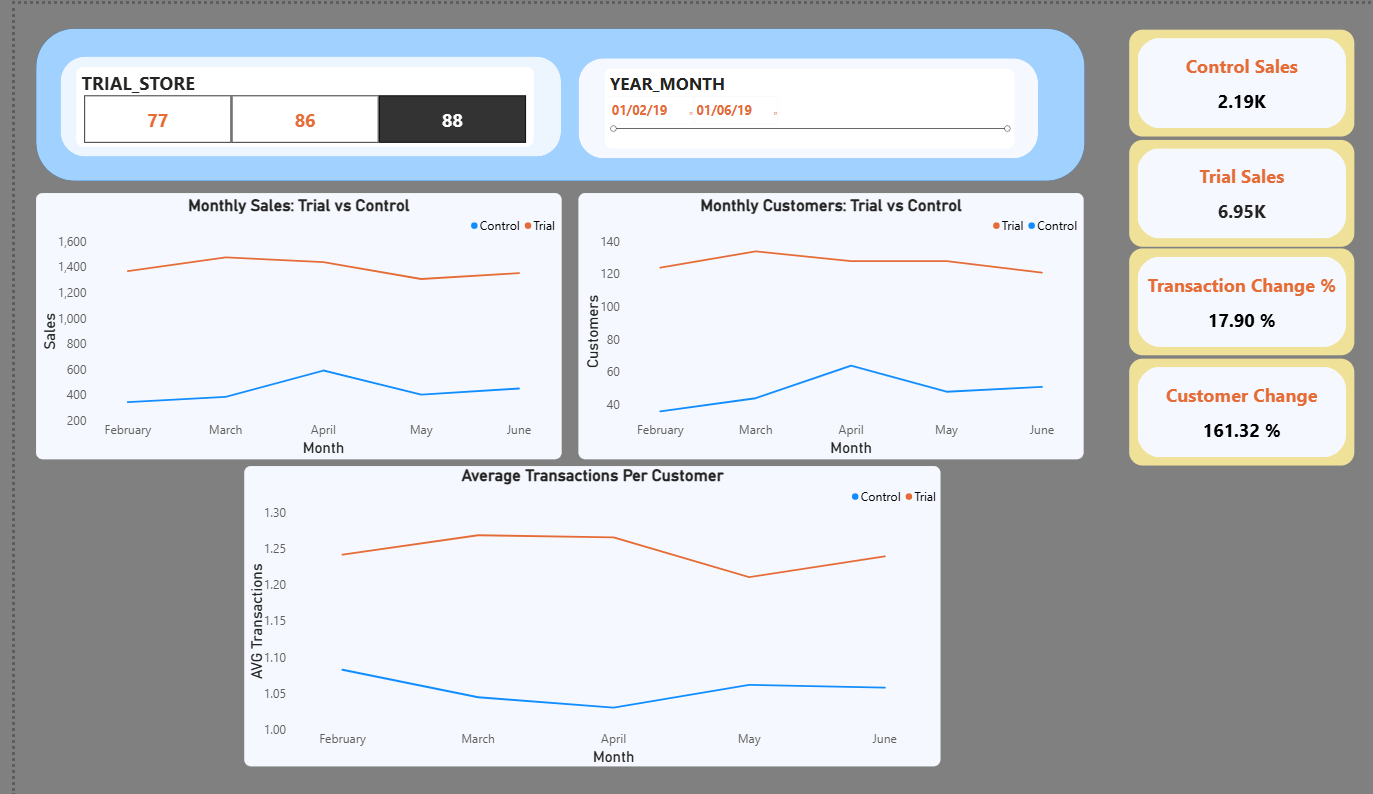

This screenshot's page, from the dashboard's own definition file:
{"tool":"powerbi","page":{"name":"Page ١","canvas":[6000,3500],"ordinal":0},"visuals":[{"type":"shape","box":[90,110,4610,670],"z":0},{"type":"shape","box":[200,230,2200,440],"z":1000},{"type":"slicer","fields":{"Values":["Table3.TRIAL_STORE"]},"box":[270,280,2010,350],"z":2000},{"type":"shape","box":[2480,240,2020,440],"z":3000},{"type":"slicer","fields":{"Values":["Table2.YEAR_MONTH"]},"box":[2592.3,284.6,1800,350],"z":4000},{"type":"cardVisual","fields":{"Data":["Sum(Table2.TOTAL_SALES_TRIAL)"]},"box":[4890,590,1000,480],"z":5000},{"type":"cardVisual","fields":{"Data":["Sum(Table2.TOTAL_SALES_CONTROL)"]},"box":[4890,110,1000,480],"z":6000},{"type":"cardVisual","fields":{"Data":["Campaign Results.Customer Change"]},"box":[4890,1550,1000,480],"z":7000},{"type":"cardVisual","fields":{"Data":["Campaign Results.Transaction Change %"]},"box":[4890,1070,1000,480],"z":8000},{"type":"lineChart","title":"Monthly Sales: Trial vs Control","fields":{"Category":["Table2.YEAR_MONTH.Variation.Date Hierarchy.Month"],"Y":["Sum(Table2.TOTAL_SALES_CONTROL)","Sum(Table2.TOTAL_SALES_TRIAL)"]},"box":[90,830,2310,1170],"z":10000},{"type":"lineChart","title":"Monthly Customers: Trial vs Control","fields":{"Category":["Table2.YEAR_MONTH.Variation.Date Hierarchy.Month"],"Y":["Sum(Table2.TOTAL_CUSTOMERS_TRIAL)","Sum(Table2.TOTAL_CUSTOMERS_CONTROL)"]},"box":[2480,830,2220,1170],"z":11000},{"type":"lineChart","title":"Average Transactions Per Customer","fields":{"Category":["Table2.YEAR_MONTH.Variation.Date Hierarchy.Month"],"Y":["Sum(Table2.AVG_TXN_PER_CUSTOMER_CONTROL)","Sum(Table2.AVG_TXN_PER_CUSTOMER_TRIAL)"]},"box":[1010,2030,3060,1320],"z":12000}]}

Visuals, with their boxes in screenshot pixels (x1, y1, x2, y2), scaled from the page's 6000x3500 canvas onto the 1373x794 screenshot:
shape: 21 25 1076 177
shape: 46 52 549 152
slicer - Table3.TRIAL_STORE: 62 64 522 143
shape: 568 54 1030 154
slicer - Table2.YEAR_MONTH: 593 65 1005 144
cardVisual - Sum(Table2.TOTAL_SALES_TRIAL): 1119 134 1348 243
cardVisual - Sum(Table2.TOTAL_SALES_CONTROL): 1119 25 1348 134
cardVisual - Campaign Results.Customer Change: 1119 352 1348 461
cardVisual - Campaign Results.Transaction Change %: 1119 243 1348 352
"Monthly Sales: Trial vs Control" lineChart: 21 188 549 454
"Monthly Customers: Trial vs Control" lineChart: 568 188 1076 454
"Average Transactions Per Customer" lineChart: 231 461 931 760
